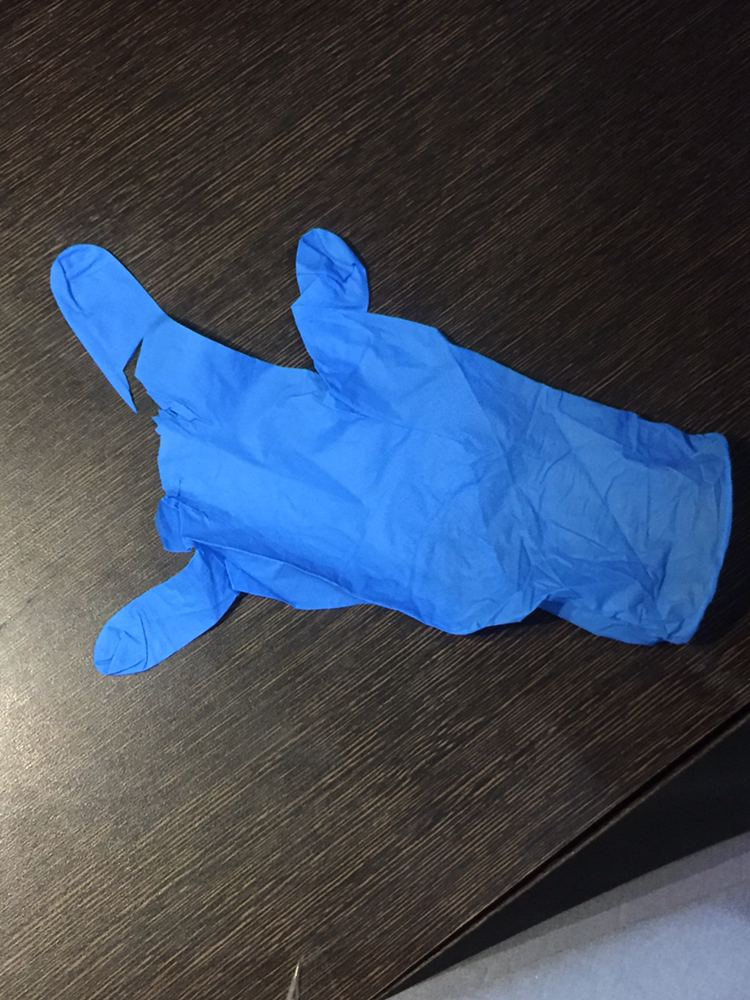defected: (32, 206, 750, 712)
